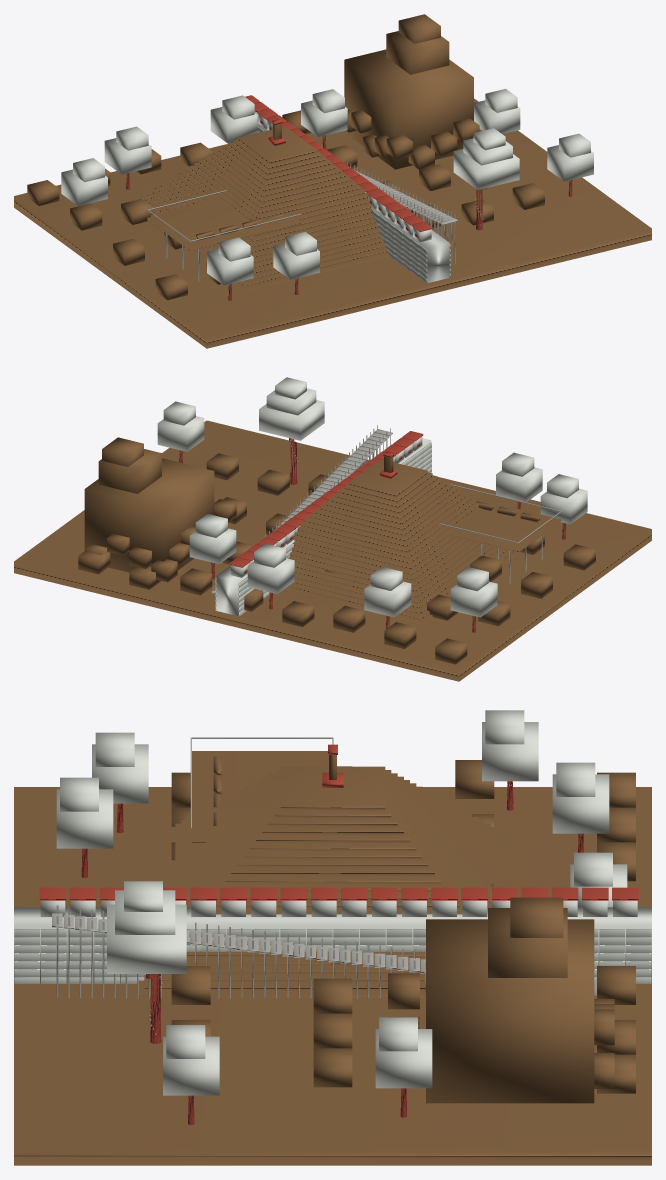
The picture shows the model from 3 angles, top to bottom: view 1: azimuth 30°, elevation 25°; view 2: azimuth 150°, elevation 25°; view 3: azimuth 270°, elevation 25°; orthographic projection. The views are drawn at different scales.
Parts seen in each view (by area): view 1: bukaksan_baekakmaru_and_buaam, bukaksan_bullet_pine_tree, bukaksan_city_wall, bukaksan_observatory_deck; view 2: bukaksan_baekakmaru_and_buaam, bukaksan_bullet_pine_tree, bukaksan_observatory_deck, bukaksan_city_wall; view 3: bukaksan_baekakmaru_and_buaam, bukaksan_bullet_pine_tree, bukaksan_city_wall, bukaksan_observatory_deck.
Part boxes in pixels (<box>): bukaksan_baekakmaru_and_buaam: <box>14,14,651,348</box>; bukaksan_bullet_pine_tree: <box>61,88,593,300</box>; bukaksan_city_wall: <box>245,95,450,283</box>; bukaksan_observatory_deck: <box>147,157,457,281</box>; bukaksan_baekakmaru_and_buaam: <box>14,420,651,681</box>; bukaksan_bullet_pine_tree: <box>157,377,587,632</box>; bukaksan_observatory_deck: <box>211,425,561,594</box>; bukaksan_city_wall: <box>215,431,431,616</box>; bukaksan_baekakmaru_and_buaam: <box>14,744,651,1165</box>; bukaksan_bullet_pine_tree: <box>56,710,627,1125</box>; bukaksan_city_wall: <box>14,887,651,983</box>; bukaksan_observatory_deck: <box>52,737,596,998</box>.
Size of the model in its own units: 48 by 12.3 by 36.
Materials: 4 (4 with a texture image).
